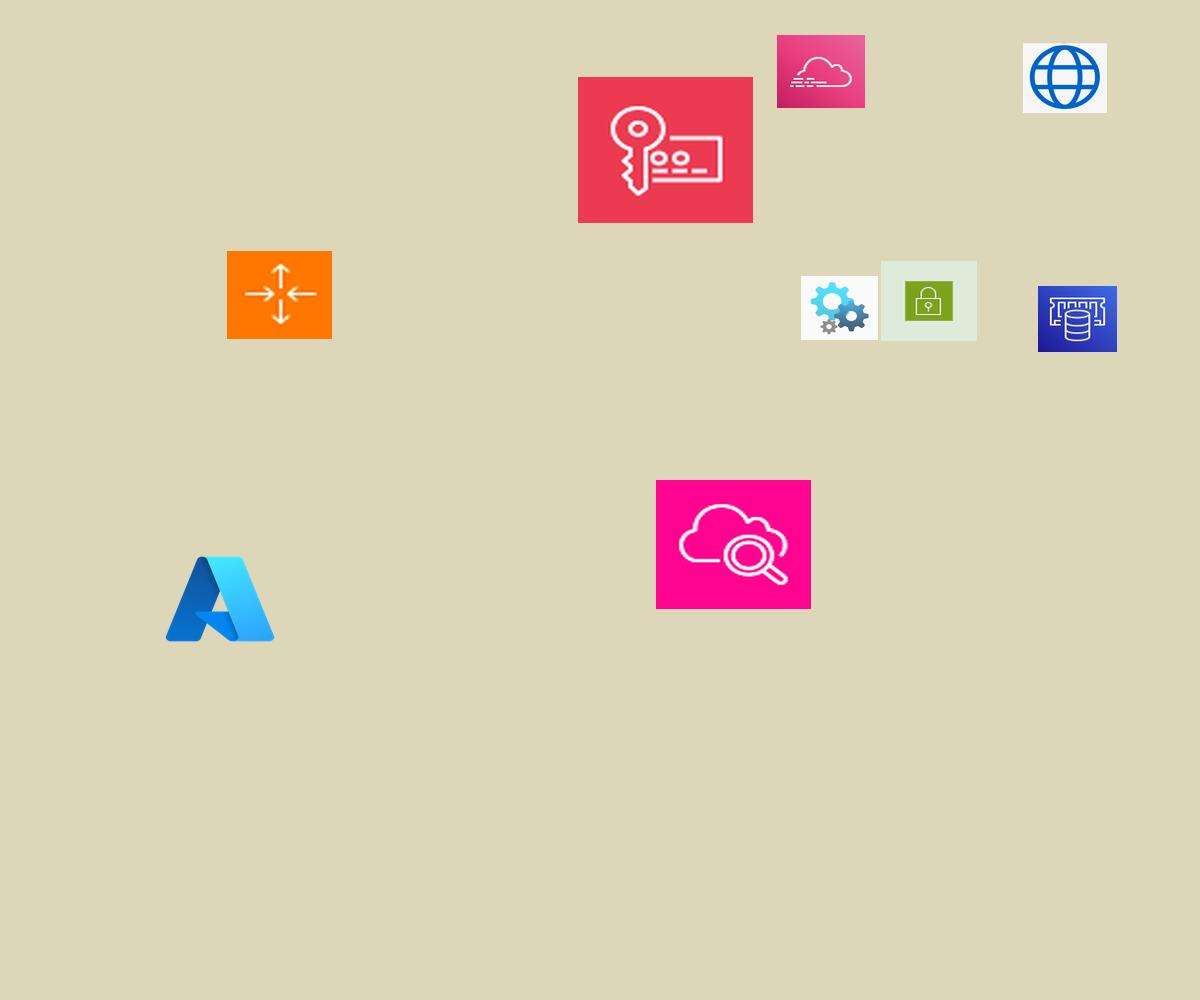AWS-CloudTrail: (777, 35, 865, 108)
AWS-CloudWatch: (656, 480, 811, 609)
AWS-ElastiCache: (1038, 286, 1117, 352)
AWS-Key-Management-Service: (578, 77, 753, 223)
AWS-Public-subnet: (881, 261, 977, 341)
AWS-Scaling-group: (227, 251, 332, 339)
Azure_api: (801, 276, 878, 340)
Azure_http: (1023, 43, 1107, 113)
Azure_services: (161, 550, 279, 648)
